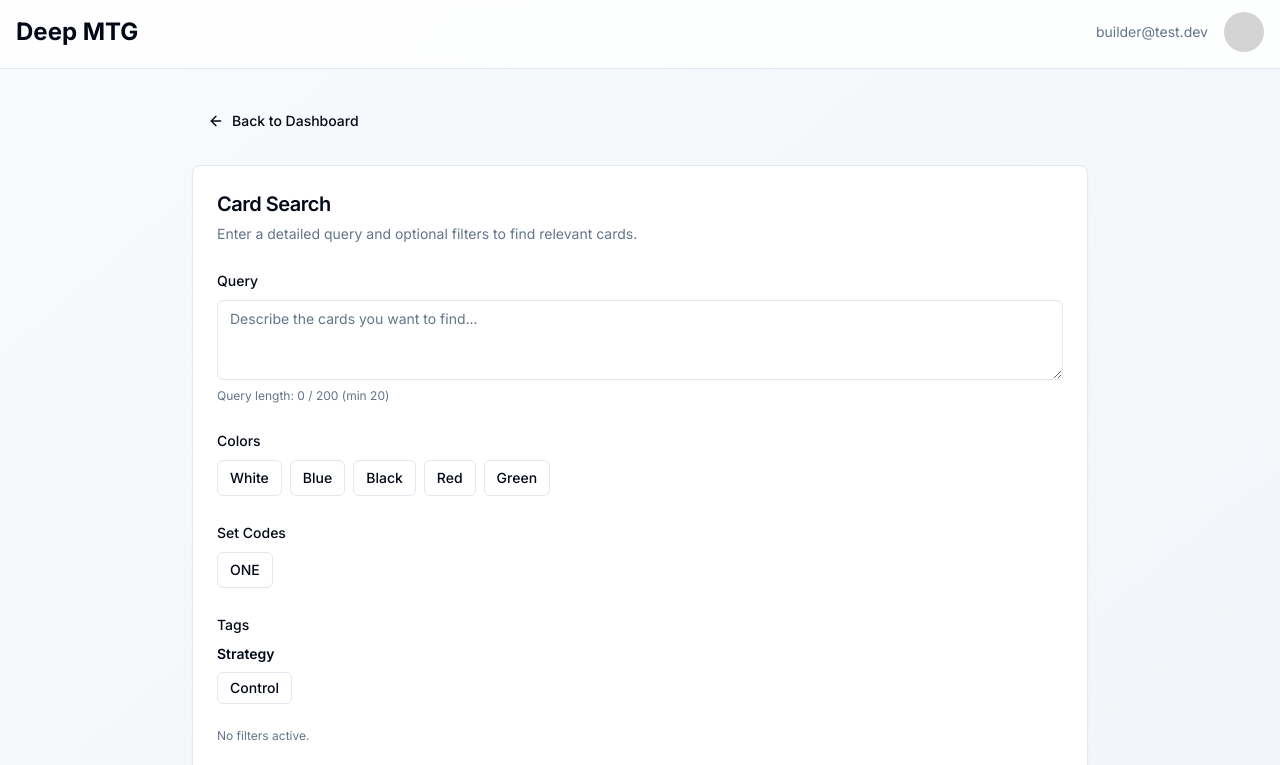
Scenario: CardSearchPage › shows api error messages when search fails
Type "Find me cards that clear the board and stabilise early game" into the text box labelled "Query" at (640, 340), box [217,300,1063,380]
(page scrolled)
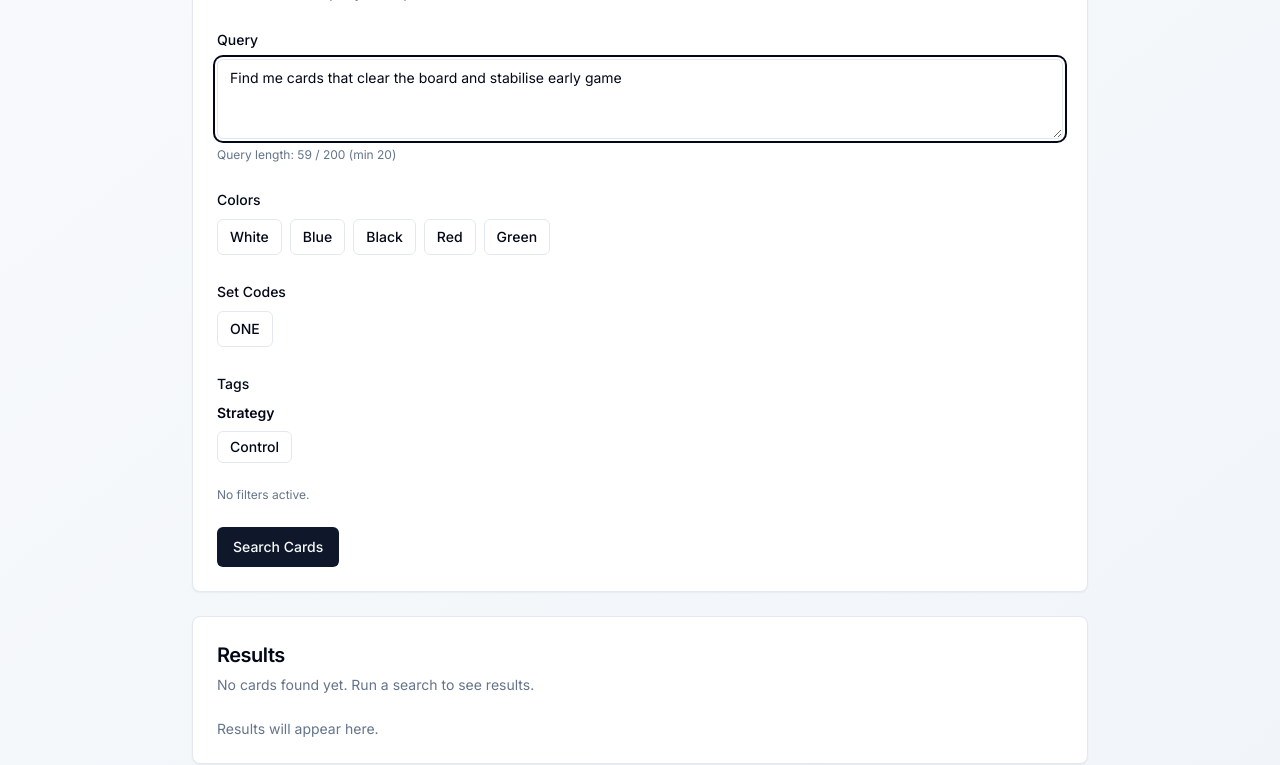
Click the button "Search Cards" at (278, 547), box [217,527,339,567]
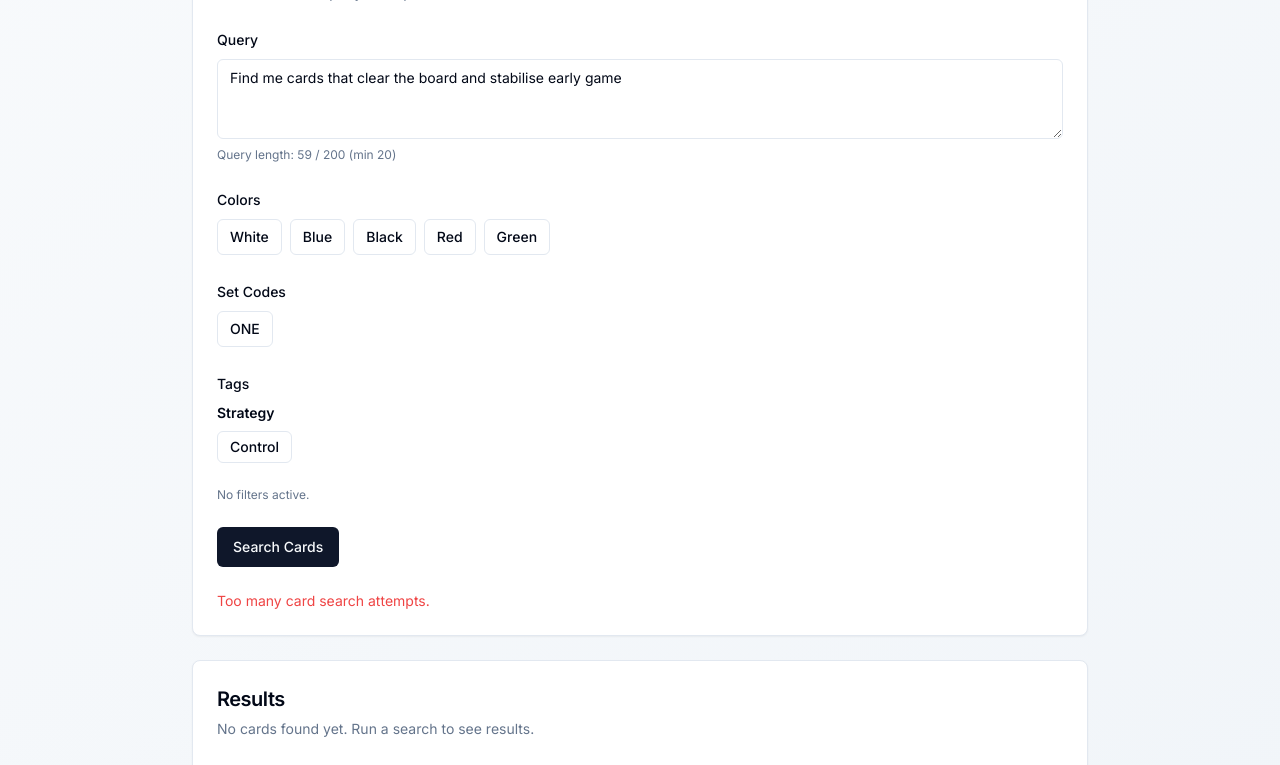
Now the text "Too many card search attempts." is shown, box [217,592,430,609]
